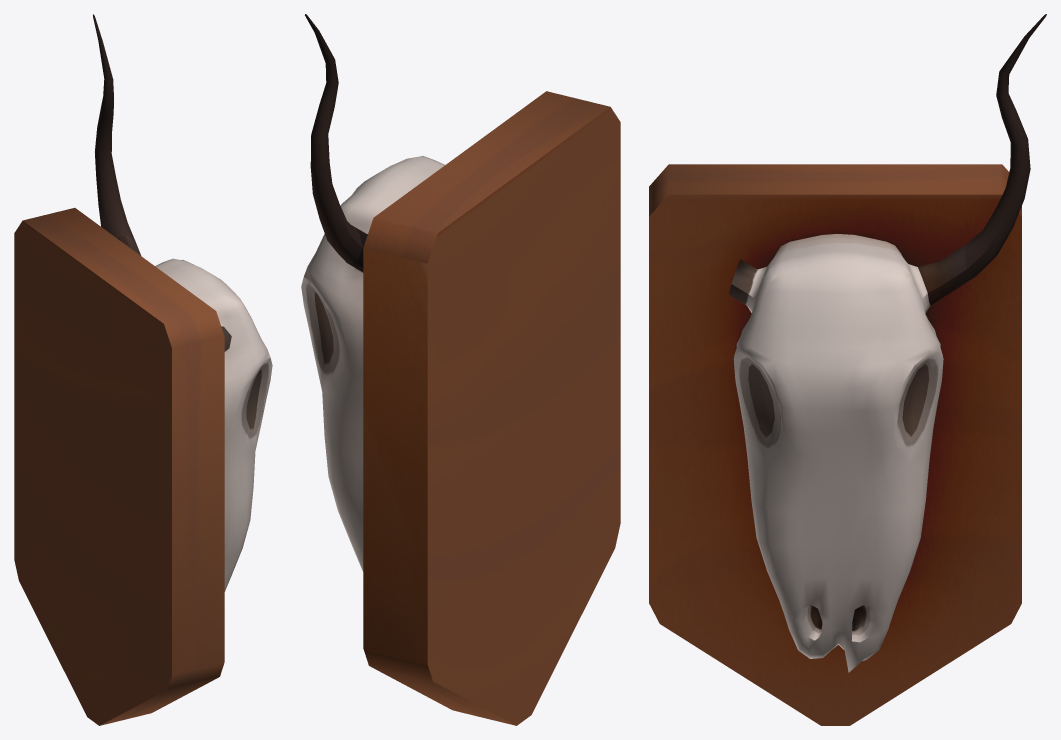
Rendered from Skull.fbx.
The picture shows the model from 3 angles, left to right: view 1: azimuth 30°, elevation 25°; view 2: azimuth 150°, elevation 25°; view 3: azimuth 270°, elevation 25°; orthographic projection. The views are drawn at different scales.
Parts seen in each view (by area): view 1: Trophie.002; view 2: Trophie.002; view 3: Trophie.002.
Boxes of the visible parts, <box> form: Trophie.002: <box>14,14,272,725</box>; Trophie.002: <box>301,14,620,725</box>; Trophie.002: <box>649,14,1046,725</box>.
Bounding box in the file's own units: 61.35 × 223 × 110.
